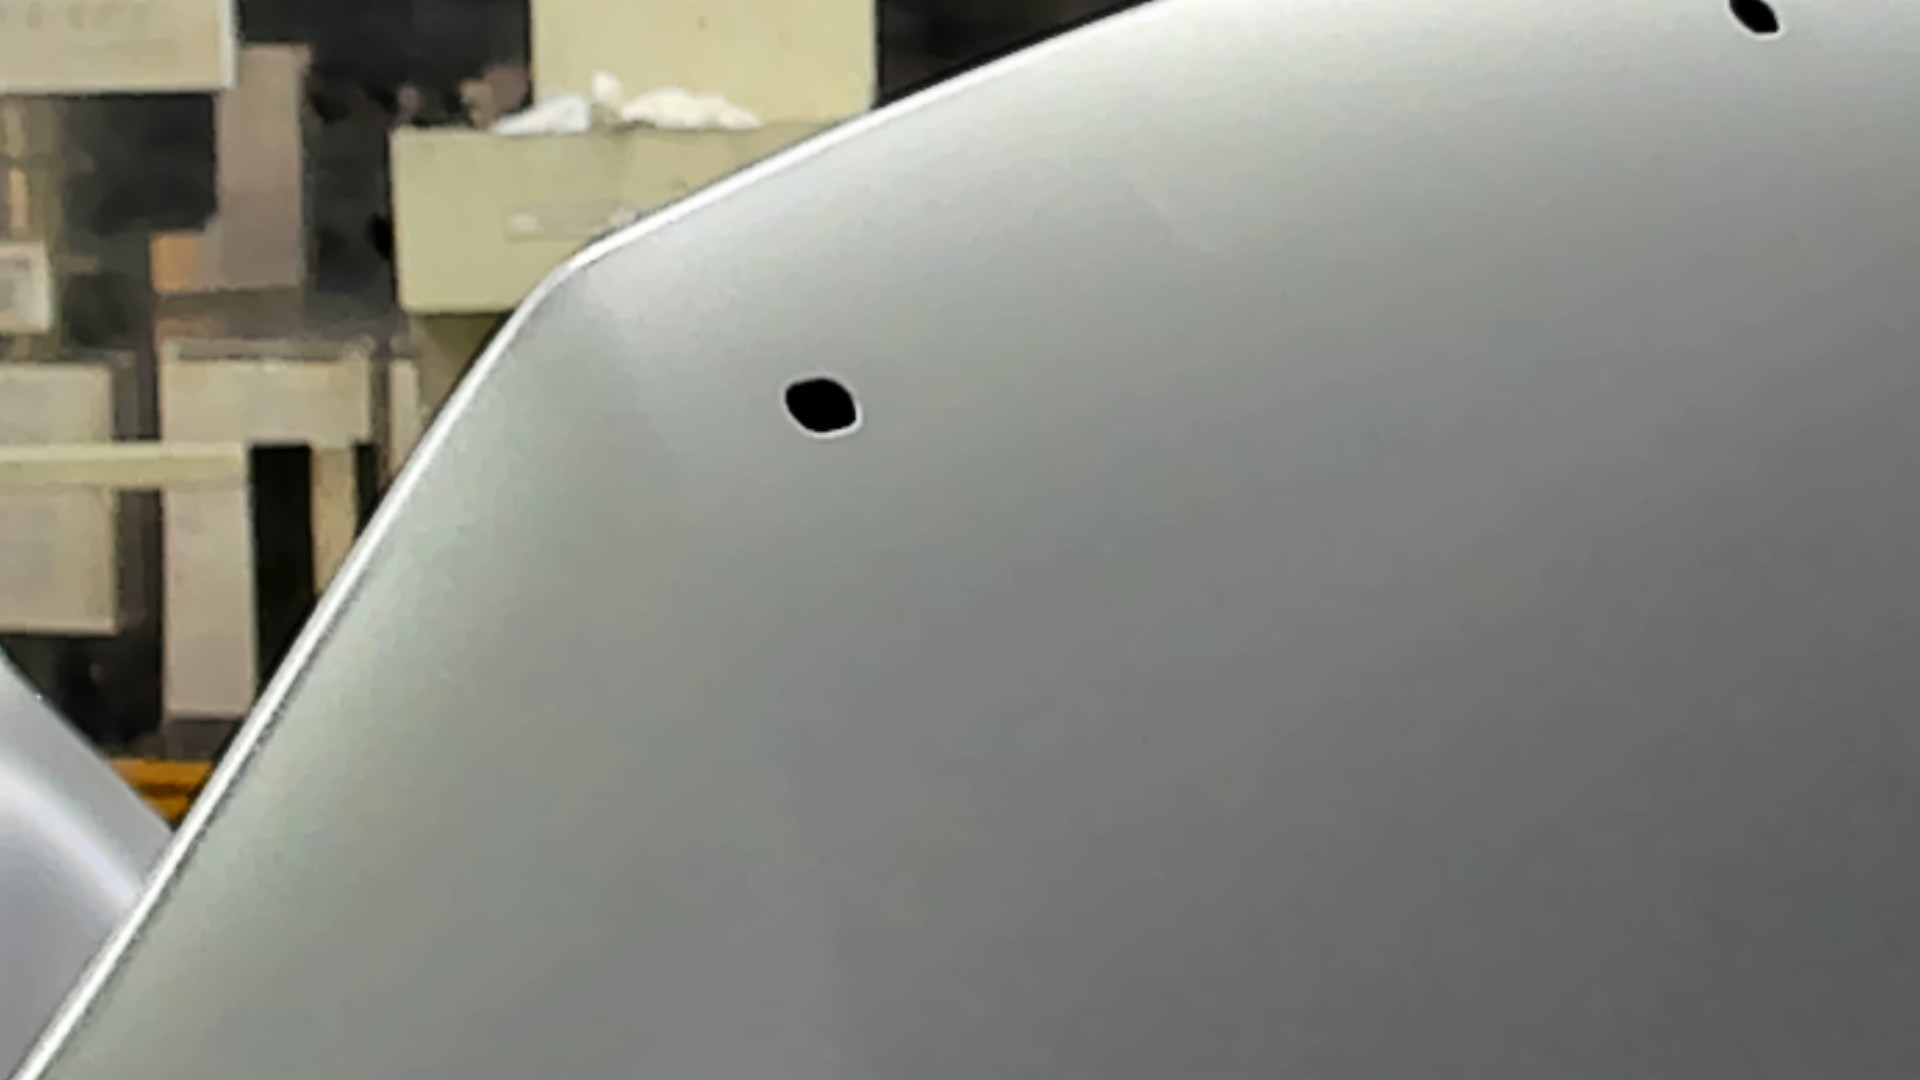amorfo: (771, 371, 869, 442), (1718, 1, 1792, 40)
